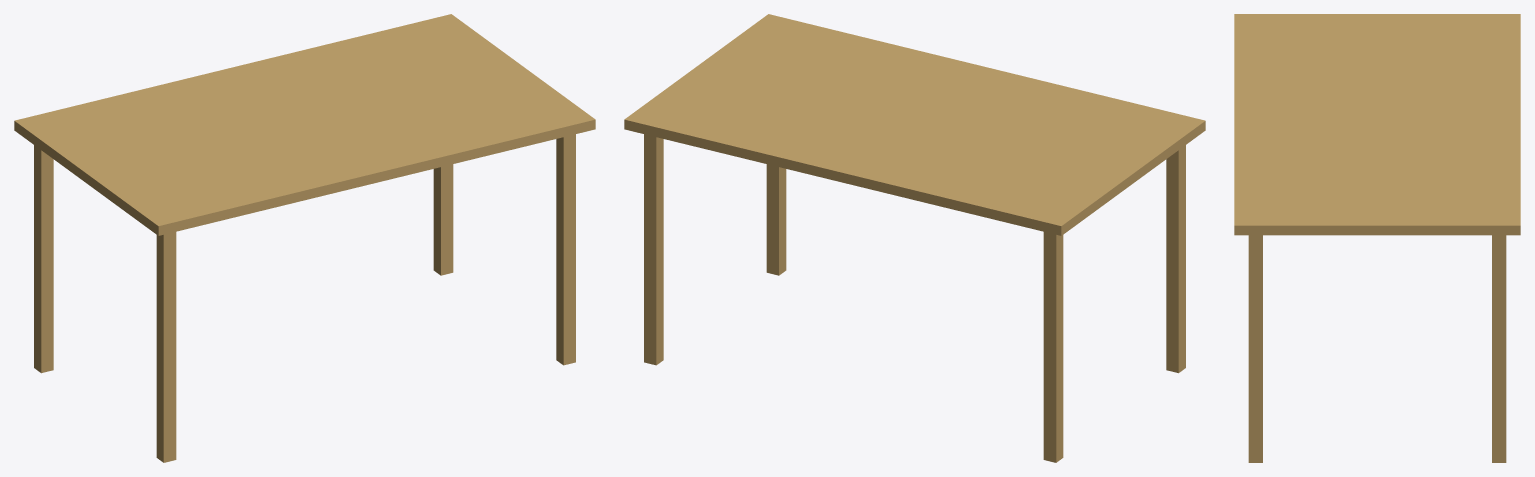
The picture shows the model from 3 angles, left to right: view 1: azimuth 30°, elevation 25°; view 2: azimuth 150°, elevation 25°; view 3: azimuth 270°, elevation 25°; orthographic projection.
Bounding box in the file's own units: 1.4 × 0.75 × 0.8.
